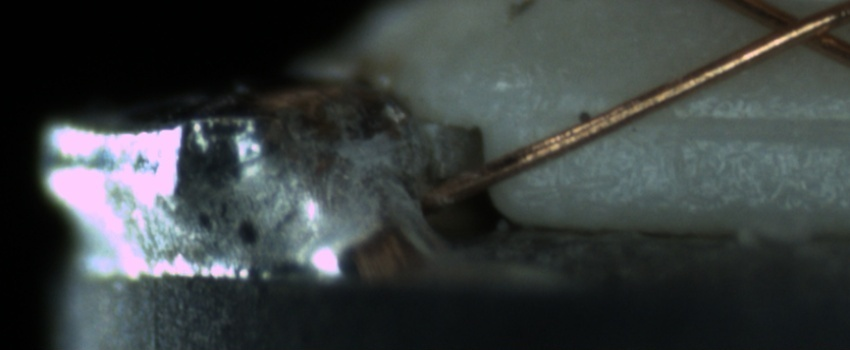CL: (740, 0, 846, 59)
DL: (551, 86, 848, 153)
